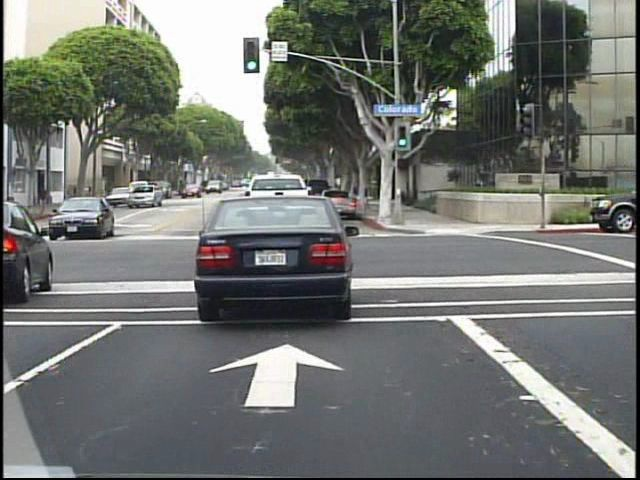person: (38, 184, 50, 213)
